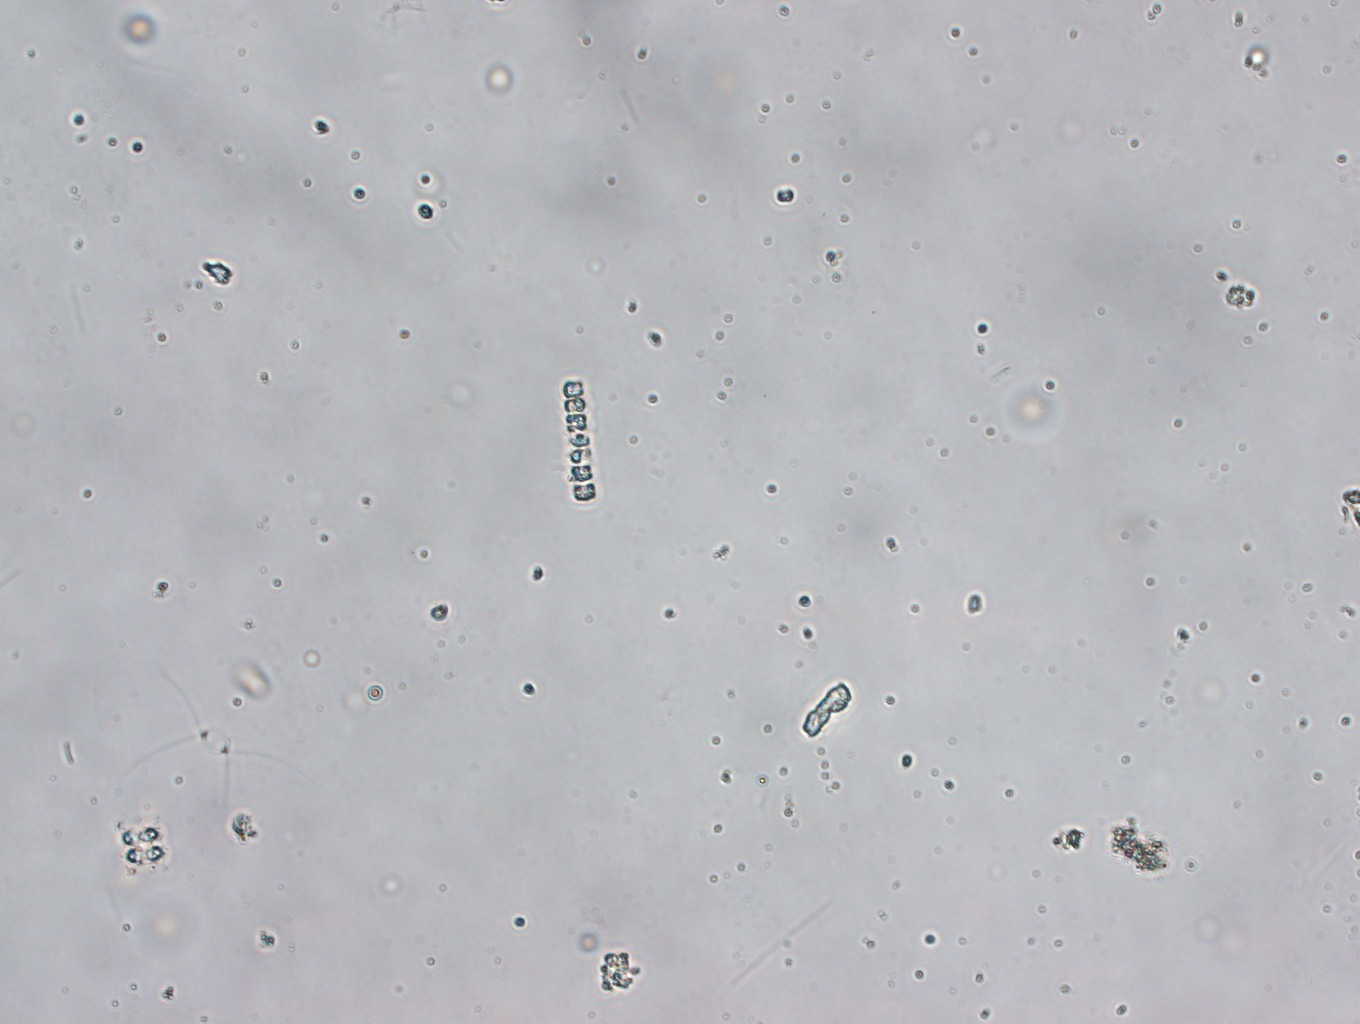skeletonema: (560, 378, 597, 502)
